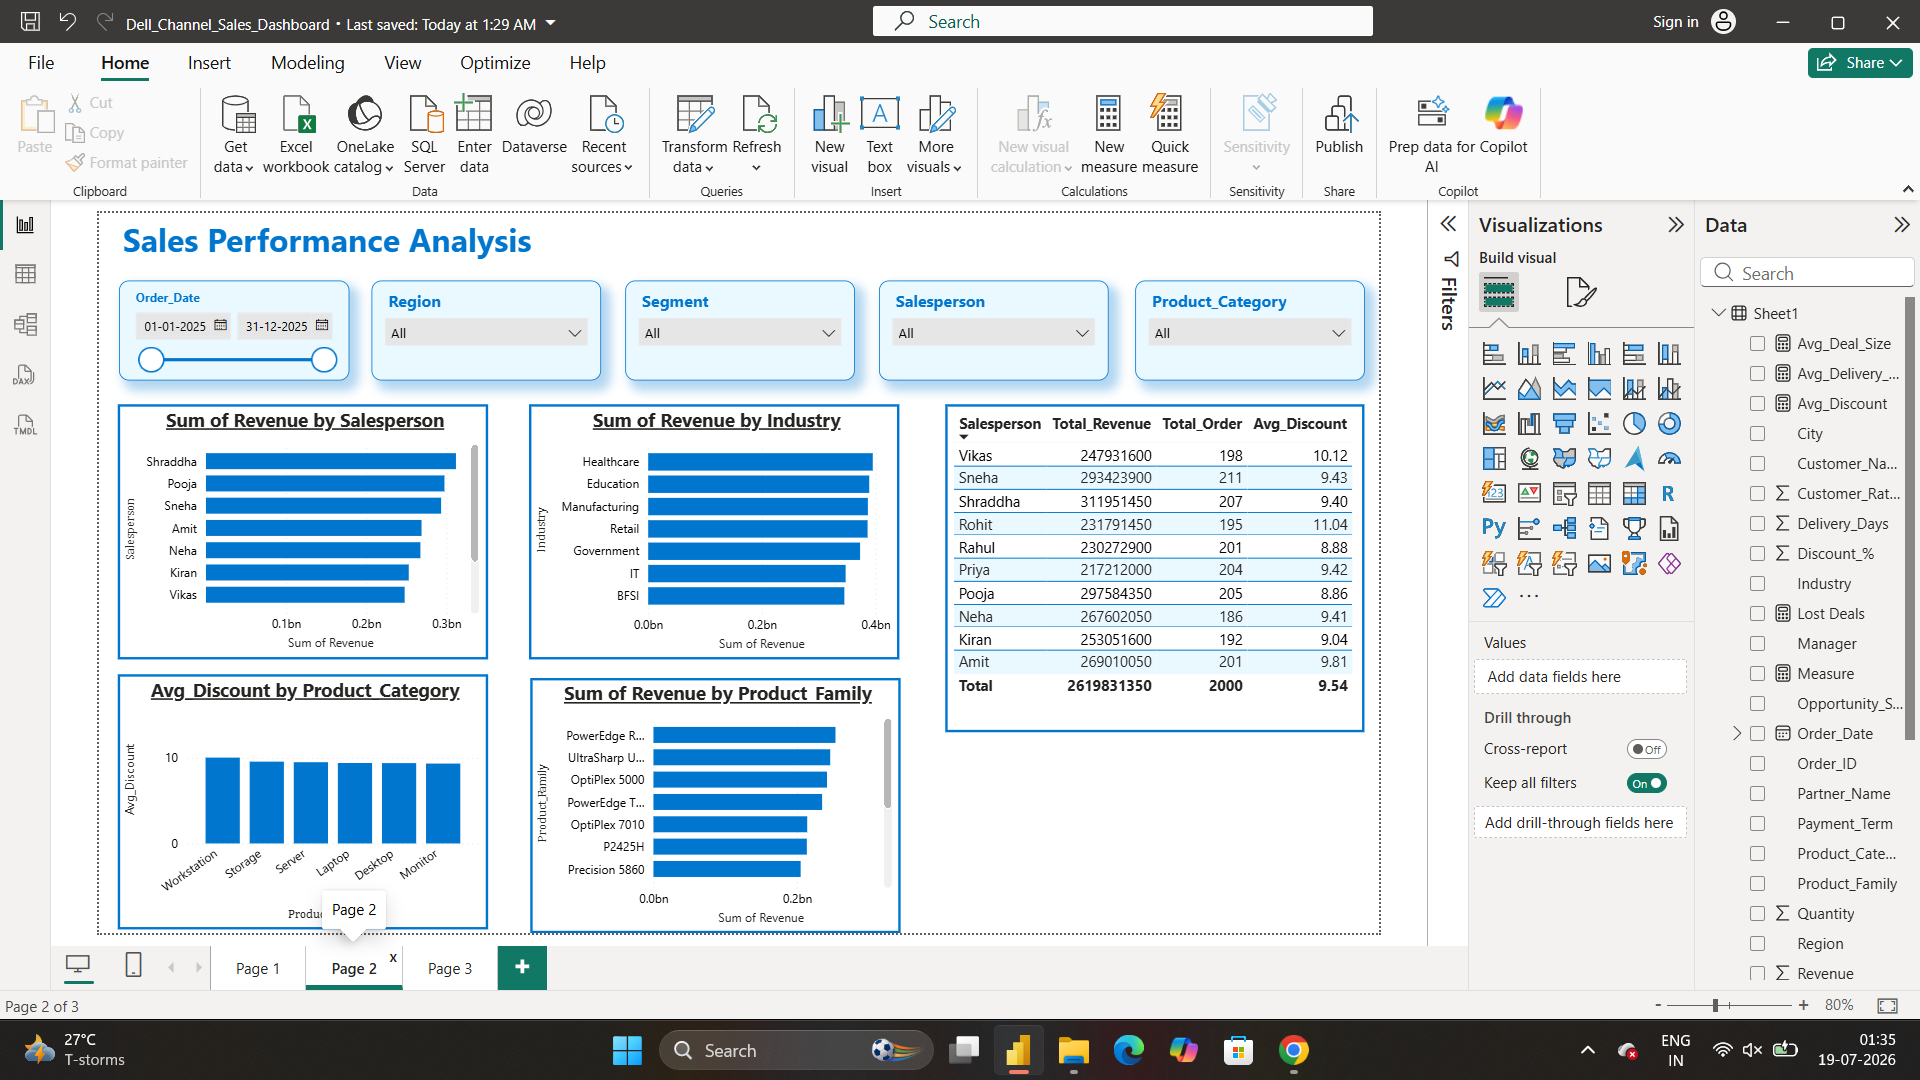

The page's visual inventory and layout, read from the dashboard file:
{"tool":"powerbi","page":{"name":"Page 2","canvas":[1280,720],"ordinal":1},"visuals":[{"type":"textbox","box":[18.3,0,432.9,56.3],"z":0},{"type":"clusteredBarChart","fields":{"Category":["Sheet1.Salesperson"],"Y":["Sum(Sheet1.Revenue)"]},"box":[18.3,190.8,370,255],"z":1000},{"type":"clusteredBarChart","fields":{"Category":["Sheet1.Industry"],"Y":["Sum(Sheet1.Revenue)"]},"box":[430.4,190.8,370.5,255.6],"z":2000},{"type":"clusteredColumnChart","fields":{"Category":["Sheet1.Product_Category"],"Y":["Sheet1.Avg_Discount"]},"box":[18.3,461,370,255],"z":3000},{"type":"barChart","fields":{"Y":["Sum(Sheet1.Revenue)"],"Category":["Sheet1.Product_Family"]},"box":[431.7,464.4,370.5,255.6],"z":4000},{"type":"tableEx","fields":{"Values":["Sheet1.Salesperson","Sheet1.Total_Revenue","Sheet1.Total_Order","Sheet1.Avg_Discount"]},"box":[846.2,190.8,419.4,327.7],"z":5000},{"type":"slicer","fields":{"Values":["Sheet1.Order_Date"]},"box":[19.6,67.3,230,100],"z":6000},{"type":"slicer","fields":{"Values":["Sheet1.Segment"]},"box":[525.8,67.3,229.9,100.3],"z":7000},{"type":"slicer","fields":{"Values":["Sheet1.Product_Category"]},"box":[1035.7,67.3,229.9,100.3],"z":8000},{"type":"slicer","fields":{"Values":["Sheet1.Salesperson"]},"box":[780.2,67.3,229.9,100.3],"z":9000},{"type":"slicer","fields":{"Values":["Sheet1.Region"]},"box":[272.7,67.3,229.9,100.3],"z":10000}]}

Visuals, with their boxes on the page's 1280x720 design canvas (x1, y1, x2, y2). These are canvas units, not pixel positions in the 1920x1080 screenshot, which may show the page scaled, cropped or inside an application window:
textbox: (left=18, top=0, right=451, bottom=56)
clusteredBarChart - Sheet1.Salesperson x Sum(Sheet1.Revenue): (left=18, top=191, right=388, bottom=446)
clusteredBarChart - Sheet1.Industry x Sum(Sheet1.Revenue): (left=430, top=191, right=801, bottom=446)
clusteredColumnChart - Sheet1.Product_Category x Sheet1.Avg_Discount: (left=18, top=461, right=388, bottom=716)
barChart - Sum(Sheet1.Revenue) x Sheet1.Product_Family: (left=432, top=464, right=802, bottom=720)
tableEx - Sheet1.Salesperson x Sheet1.Total_Revenue: (left=846, top=191, right=1266, bottom=518)
slicer - Sheet1.Order_Date: (left=20, top=67, right=250, bottom=167)
slicer - Sheet1.Segment: (left=526, top=67, right=756, bottom=168)
slicer - Sheet1.Product_Category: (left=1036, top=67, right=1266, bottom=168)
slicer - Sheet1.Salesperson: (left=780, top=67, right=1010, bottom=168)
slicer - Sheet1.Region: (left=273, top=67, right=503, bottom=168)
